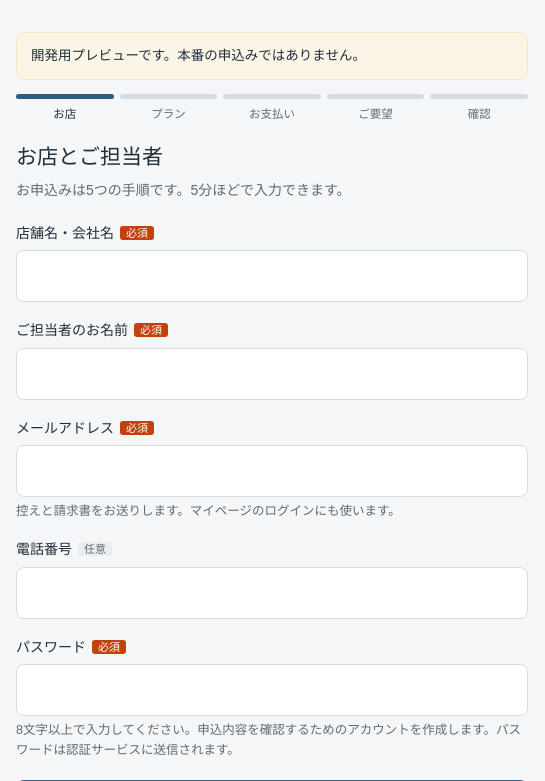
application flow › offers bank transfer (card pending) and no LINE name field or konbini wording
Expected: the heading "お店とご担当者" is shown, [16,145,163,168]
In the field labelled "店舗名": (272, 276) [16,250,528,302], type "喫茶ひだまり"
In the field labelled "ご担当者のお名前": (272, 374) [16,348,528,400], type "山田 花子"
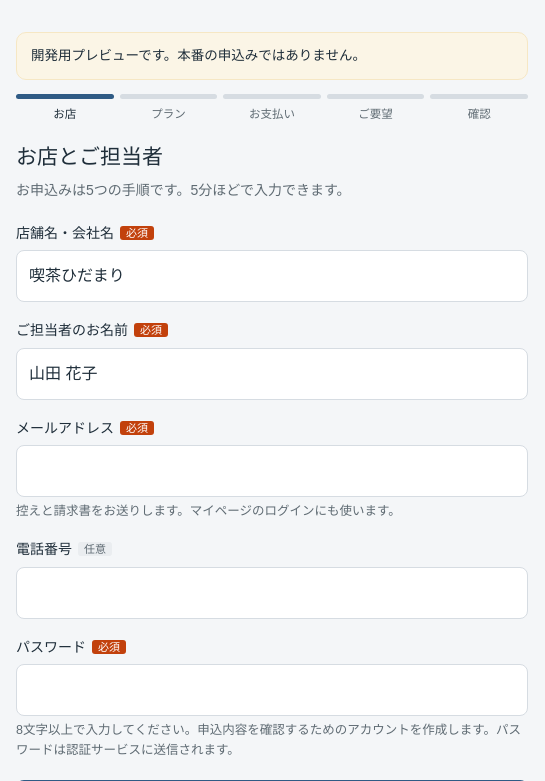
In the field labelled "メールアドレス": (272, 471) [16,445,528,497], type "shop@example.jp"
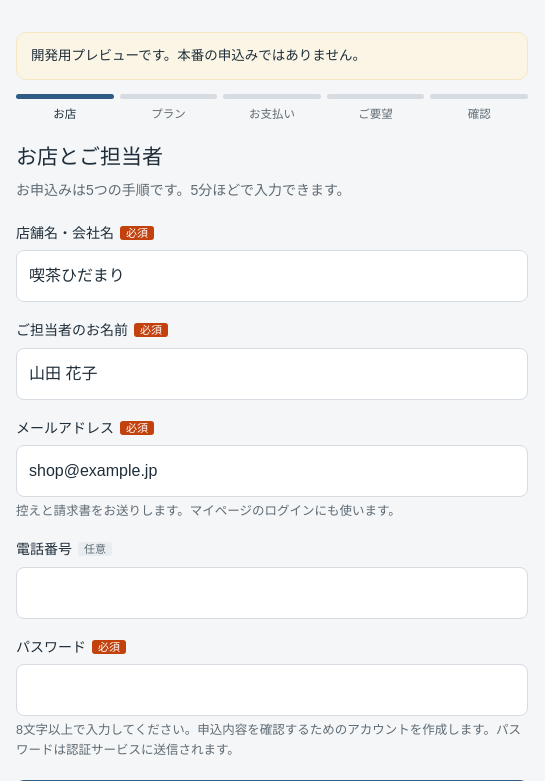
In the password field labelled "パスワード": (272, 690) [16,664,528,716], type "secret-password"
(page scrolled)
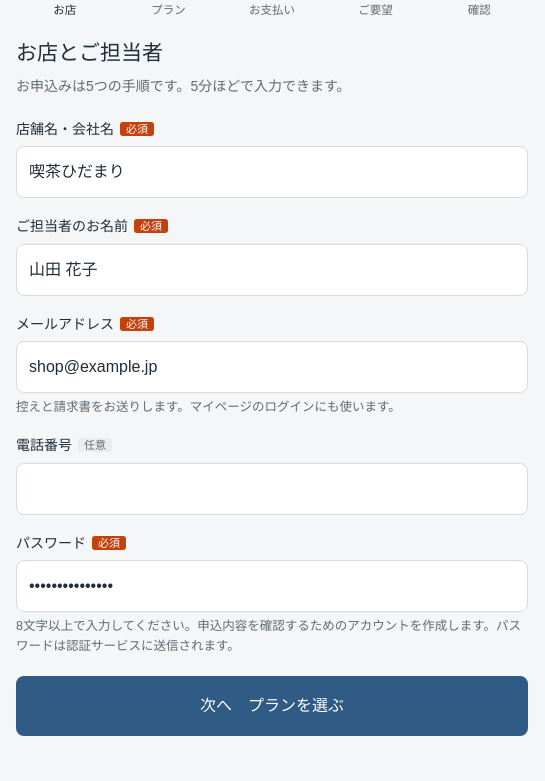
Click the button "次へ プランを選ぶ": (272, 706) [16,676,528,736]
(page scrolled)
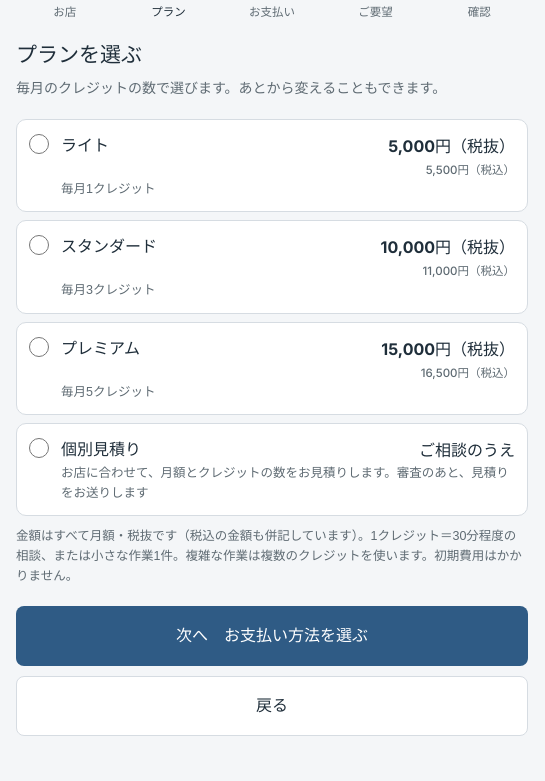
Expected: the heading "プランを選ぶ" is shown, [16,43,142,66]
Click the radio button labelled "ライト 5,000円（税抜） 5,500円（税込） 毎月1クレジット": (39, 144) [29,134,49,154]
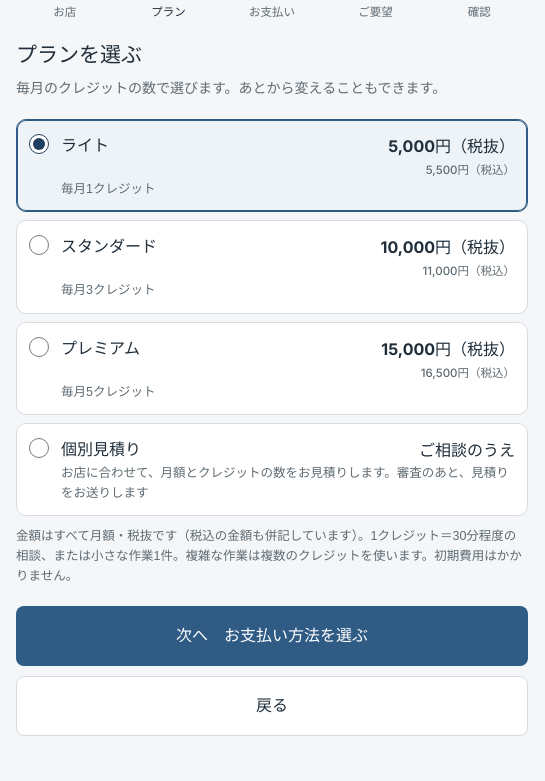
Click the button "次へ お支払い方法を選ぶ": (272, 636) [16,606,528,666]
(page scrolled)
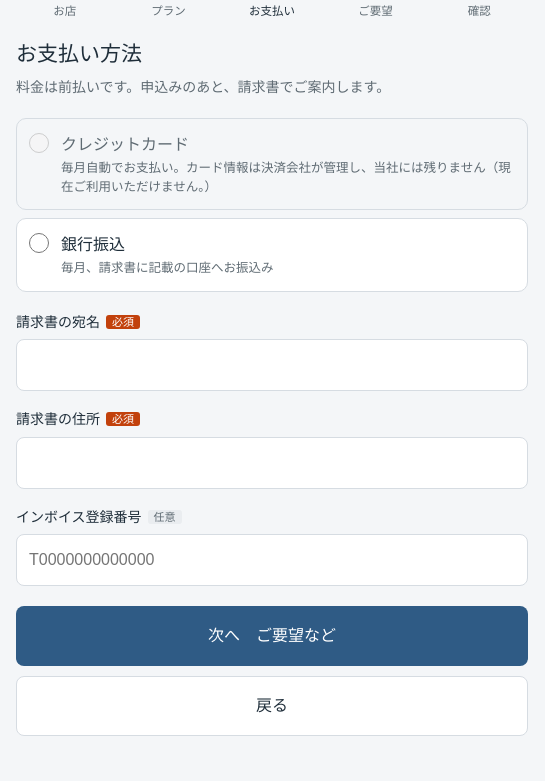
Expected: the heading "お支払い方法" is shown, [16,42,142,65]
Expected: the number of radio buttons is 2, [29,133,49,153]; [29,233,49,253]
